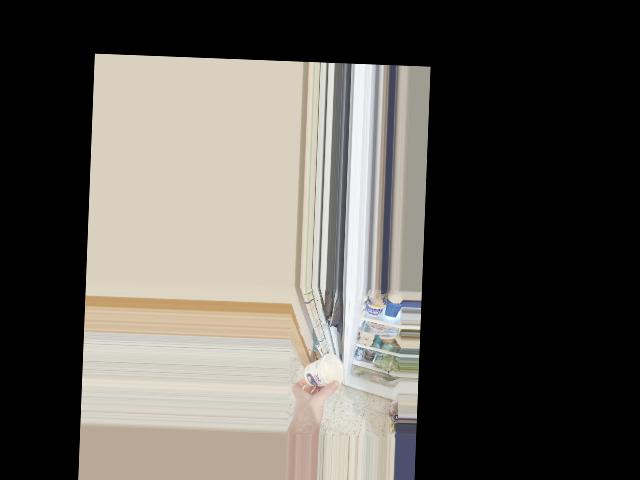cotage: (307, 350, 339, 387)
